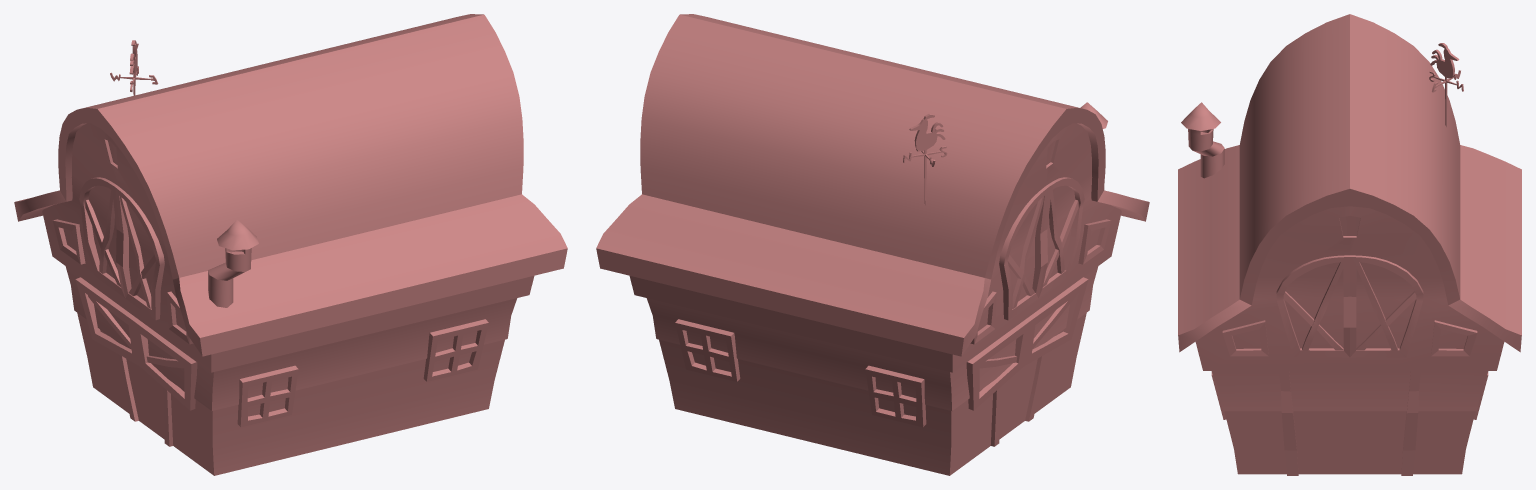
The model's file is Granero.fbx.
3 views of the same model, side by side, from view 1: azimuth 30°, elevation 25°; view 2: azimuth 150°, elevation 25°; view 3: azimuth 270°, elevation 25° (orthographic). The views are drawn at different scales.
Parts seen in each view (by area): view 1: Techo, Base, Decoracion, Chimenea; view 2: Techo, Base, Decoracion, Brujula; view 3: Techo, Base, Decoracion, Chimenea, Brujula.
Part boxes in pixels (left/top/right/bottom): Techo: left=14, top=14, right=567, bottom=356; Base: left=42, top=123, right=534, bottom=475; Decoracion: left=52, top=177, right=488, bottom=446; Chimenea: left=208, top=220, right=258, bottom=307; Techo: left=596, top=14, right=1149, bottom=356; Base: left=629, top=123, right=1121, bottom=475; Decoracion: left=675, top=177, right=1111, bottom=446; Brujula: left=903, top=113, right=947, bottom=204; Techo: left=1178, top=14, right=1521, bottom=352; Base: left=1195, top=206, right=1504, bottom=474; Decoracion: left=1211, top=255, right=1488, bottom=475; Chimenea: left=1181, top=102, right=1224, bottom=178; Brujula: left=1429, top=43, right=1463, bottom=127.
Size of the model in its own units: 638 by 546 by 531.
